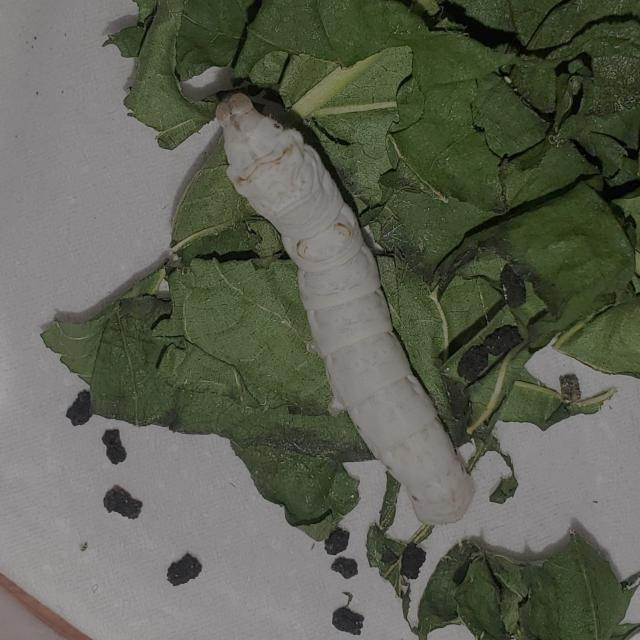Healthy: (199, 62, 519, 570)
